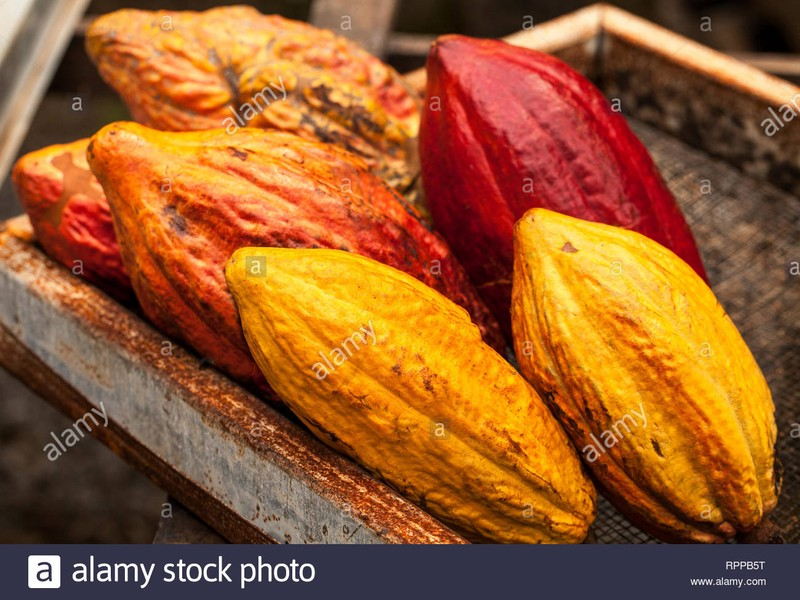Cacaopod: (224, 245, 601, 542), (512, 208, 783, 544)
